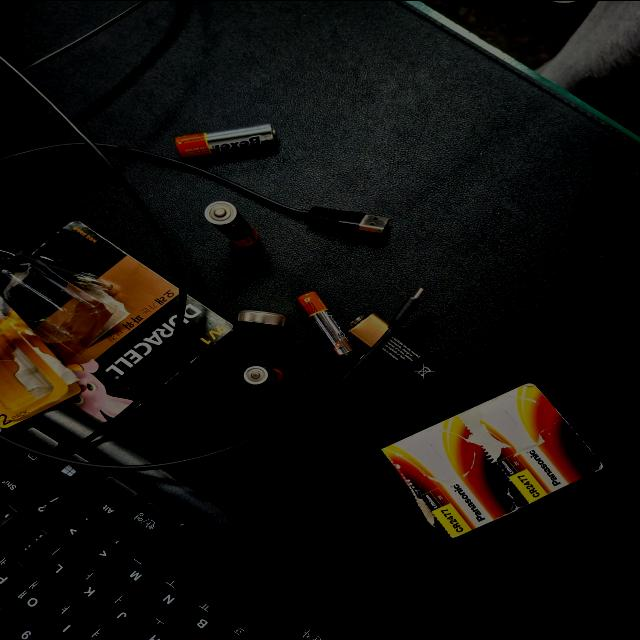9V: (413, 310, 510, 380)
AA: (163, 431, 212, 508), (266, 447, 330, 487)
AAA: (386, 373, 474, 418), (485, 426, 513, 462)
COIN: (412, 423, 434, 463)
